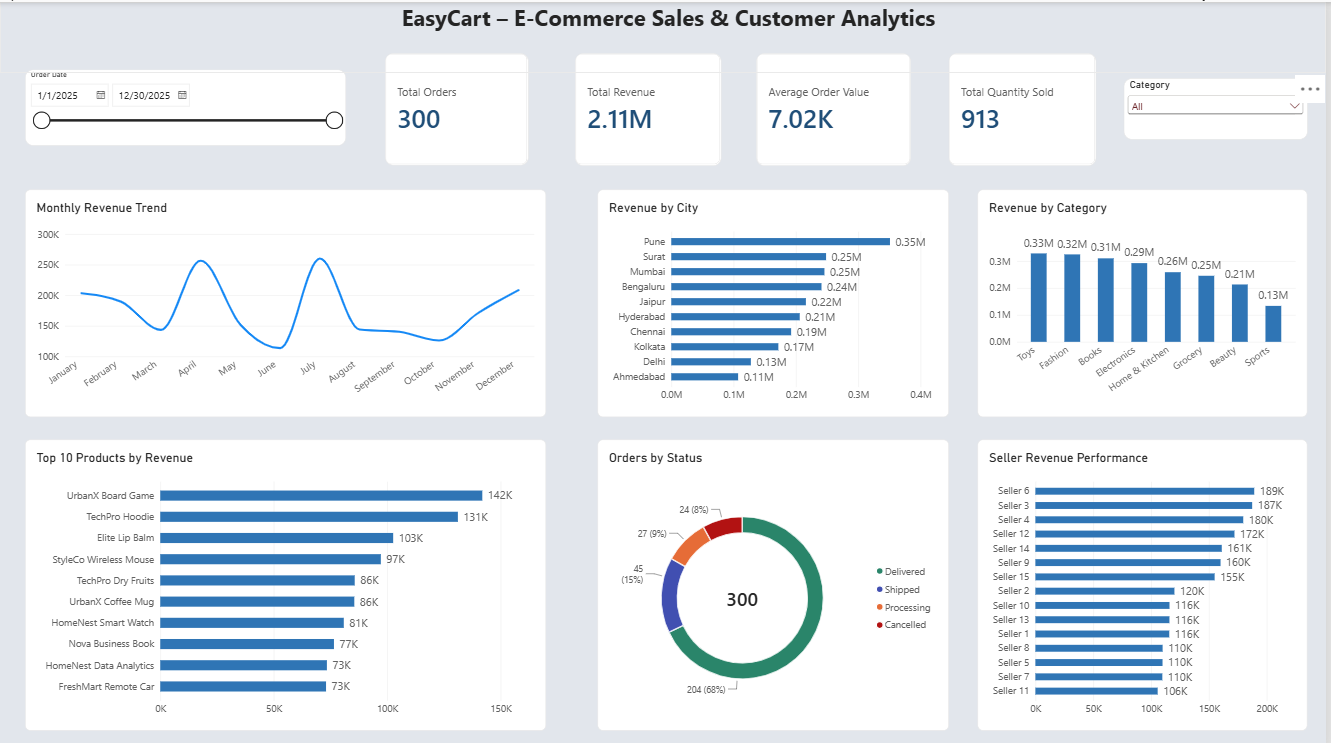

This screenshot's page, from the dashboard's own definition file:
{"tool":"powerbi","page":{"name":"Page 1","canvas":[1920,1080],"ordinal":0},"visuals":[{"type":"cardVisual","fields":{"Data":["CountNonNull(easycart orders.order_id)"]},"box":[557.4,74.2,207.9,162.6],"z":0},{"type":"cardVisual","fields":{"Data":["easycart order_items.Total Revenue"]},"box":[832.4,74.2,211.7,162.9],"z":1000},{"type":"cardVisual","fields":{"Data":["easycart orders.Average Order Value"]},"box":[1094.8,74.2,224.4,162.9],"z":2000},{"type":"cardVisual","fields":{"Data":["easycart order_items.Total Quantity Sold"]},"box":[1373.5,74.2,213.5,162.9],"z":3000},{"type":"lineChart","title":"Monthly Revenue Trend","fields":{"Category":["easycart orders.order_date.Variation.Date Hierarchy.Month"],"Y":["easycart order_items.Total Revenue"]},"box":[36.2,271.4,754.6,329.4],"z":4000},{"type":"clusteredColumnChart","title":"Revenue by Category","fields":{"Category":["easycart categories.category_name"],"Y":["easycart order_items.Total Revenue"]},"box":[1415.2,271.4,477.8,329.4],"z":5000},{"type":"clusteredBarChart","title":"Top 10 Products by Revenue","fields":{"Category":["easycart products.product_name"],"Y":["easycart order_items.Total Revenue"]},"box":[36.2,633.4,754.6,421.7],"z":6000},{"type":"donutChart","title":"Orders by Status","fields":{"Category":["easycart orders.order_status"],"Y":["CountNonNull(easycart orders.order_id)"]},"box":[865,633.4,508.5,421.7],"z":7000},{"type":"clusteredBarChart","title":"Revenue by City","fields":{"Category":["easycart customers.city"],"Y":["easycart order_items.Total Revenue"]},"box":[865,271.4,508.5,329.4],"z":8000},{"type":"clusteredBarChart","title":"Seller Revenue Performance","fields":{"Category":["easycart sellers.seller_name"],"Y":["easycart order_items.Total Revenue"]},"box":[1415.2,633.4,477.8,421.7],"z":9000},{"type":"slicer","title":"Order Date","fields":{"Values":["easycart orders.order_date"]},"box":[36.2,97.7,465.1,110.4],"z":10000},{"type":"slicer","title":"Category Filter","fields":{"Values":["easycart categories.category_name"]},"box":[1626.9,110.4,266,88.7],"z":11000},{"type":"textbox","box":[0,0,1920.1,103.2],"z":12000}]}

Visuals, with their boxes in screenshot pixels (x1, y1, x2, y2), scaled from the page's 1920x1080 canvas onto the 1331x743 screenshot:
cardVisual - CountNonNull(easycart orders.order_id): {"left": 386, "top": 51, "right": 531, "bottom": 163}
cardVisual - easycart order_items.Total Revenue: {"left": 577, "top": 51, "right": 724, "bottom": 163}
cardVisual - easycart orders.Average Order Value: {"left": 759, "top": 51, "right": 915, "bottom": 163}
cardVisual - easycart order_items.Total Quantity Sold: {"left": 952, "top": 51, "right": 1100, "bottom": 163}
"Monthly Revenue Trend" lineChart: {"left": 25, "top": 187, "right": 548, "bottom": 413}
"Revenue by Category" clusteredColumnChart: {"left": 981, "top": 187, "right": 1312, "bottom": 413}
"Top 10 Products by Revenue" clusteredBarChart: {"left": 25, "top": 436, "right": 548, "bottom": 726}
"Orders by Status" donutChart: {"left": 600, "top": 436, "right": 952, "bottom": 726}
"Revenue by City" clusteredBarChart: {"left": 600, "top": 187, "right": 952, "bottom": 413}
"Seller Revenue Performance" clusteredBarChart: {"left": 981, "top": 436, "right": 1312, "bottom": 726}
"Order Date" slicer: {"left": 25, "top": 67, "right": 348, "bottom": 143}
"Category Filter" slicer: {"left": 1128, "top": 76, "right": 1312, "bottom": 137}
textbox: {"left": 0, "top": 0, "right": 1330, "bottom": 71}
